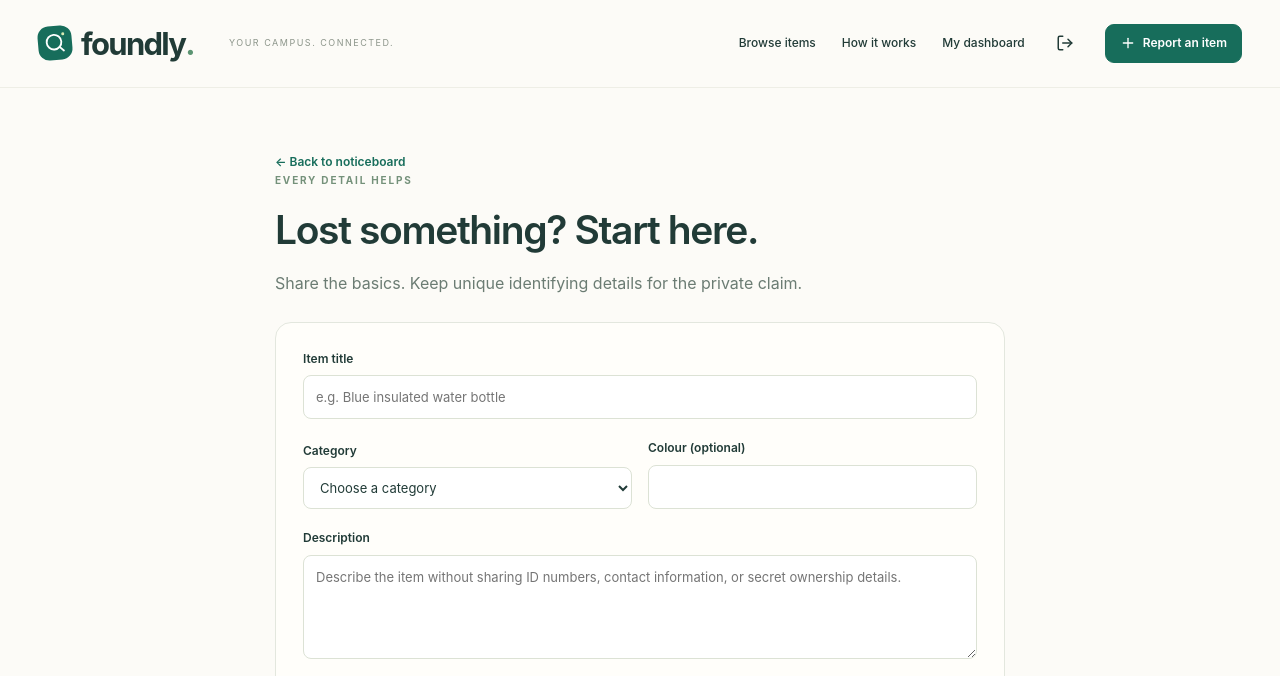
Test case: Report creation › submits report fields to the backend and opens the saved item
In the field labelled "Item title": [640, 397] box [303,375,977,419], type "Green notebook"
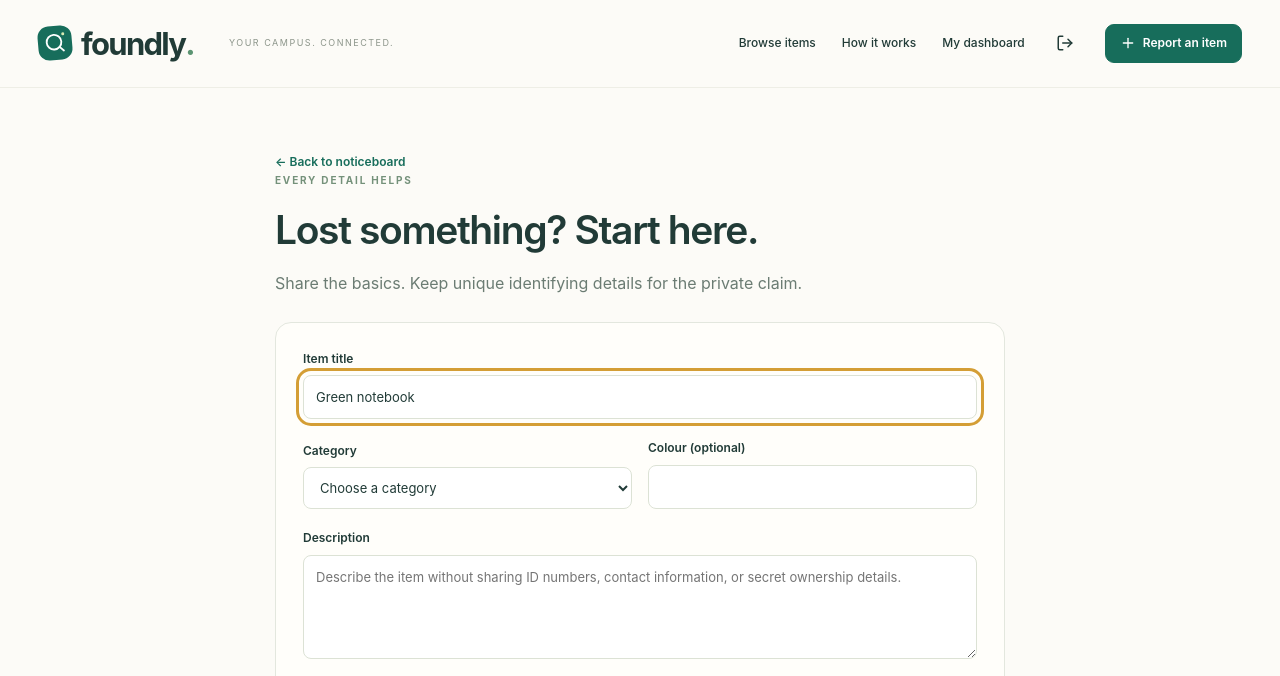
Select "Electronics" in the dropdown labelled "Category": [468, 488] box [303,467,632,509]
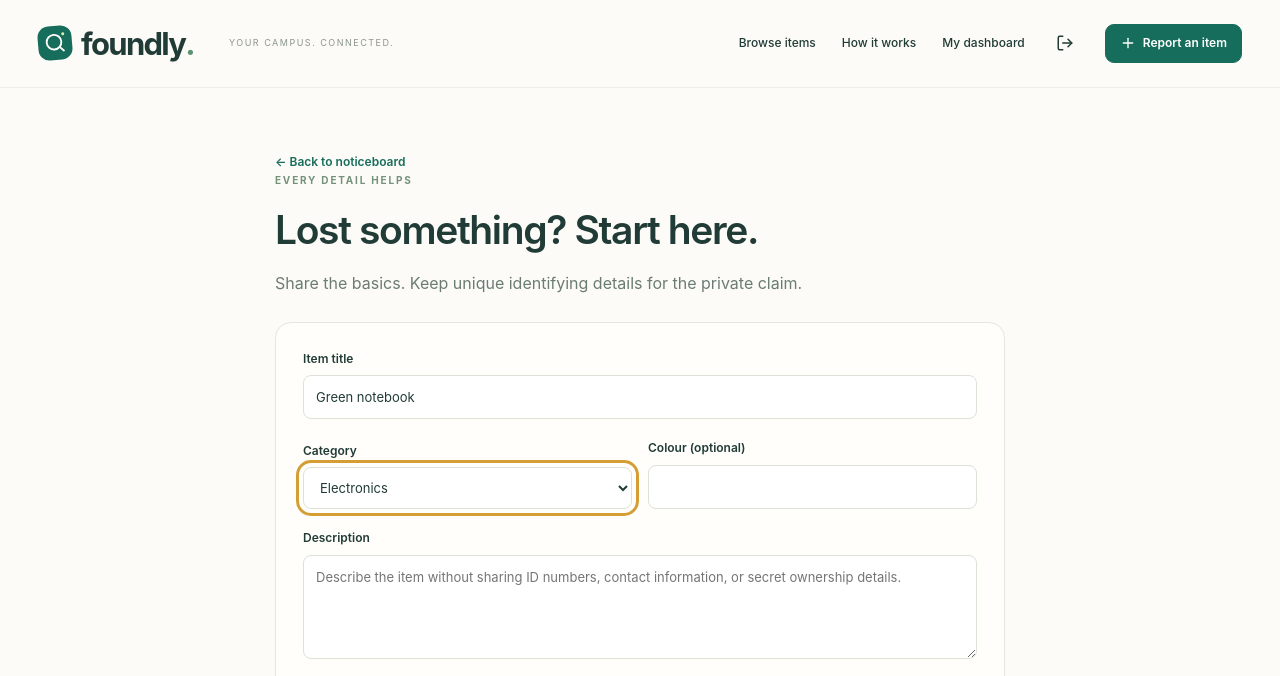
In the text box labelled "Description": [640, 607] box [303,555,977,659], type "A plain green notebook lost after class"
(page scrolled)
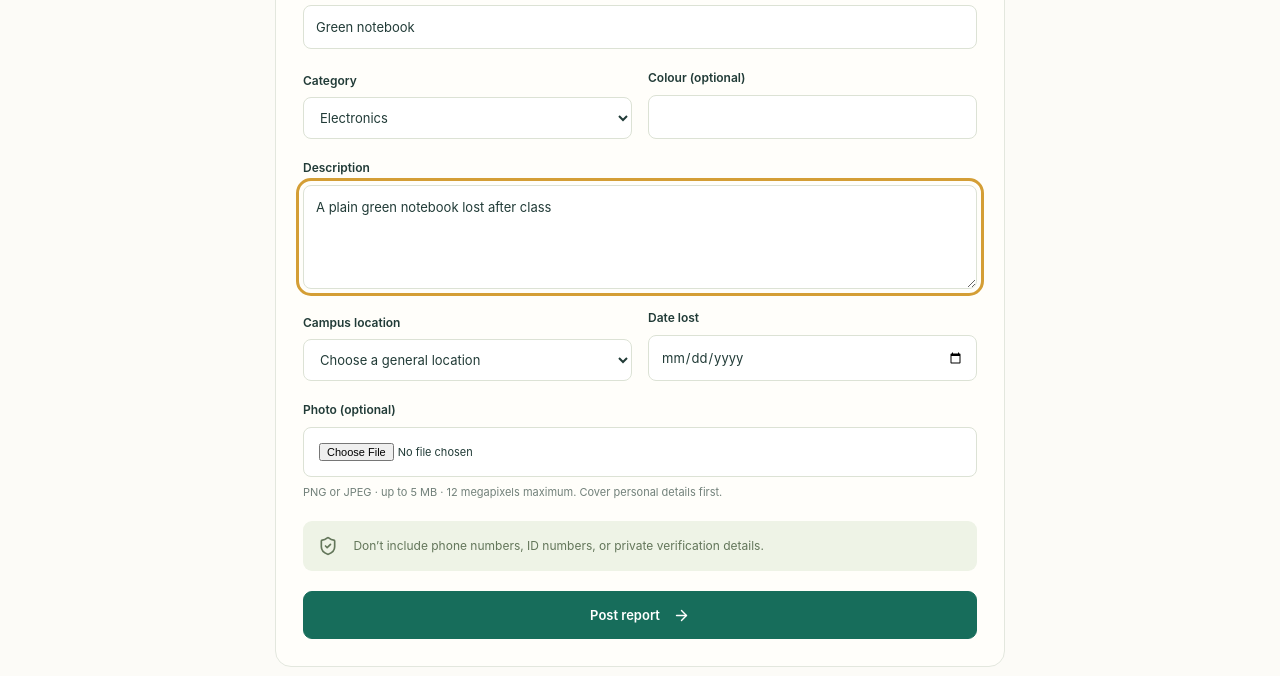
Select "Library" in the dropdown labelled "Campus location": [468, 360] box [303,339,632,381]
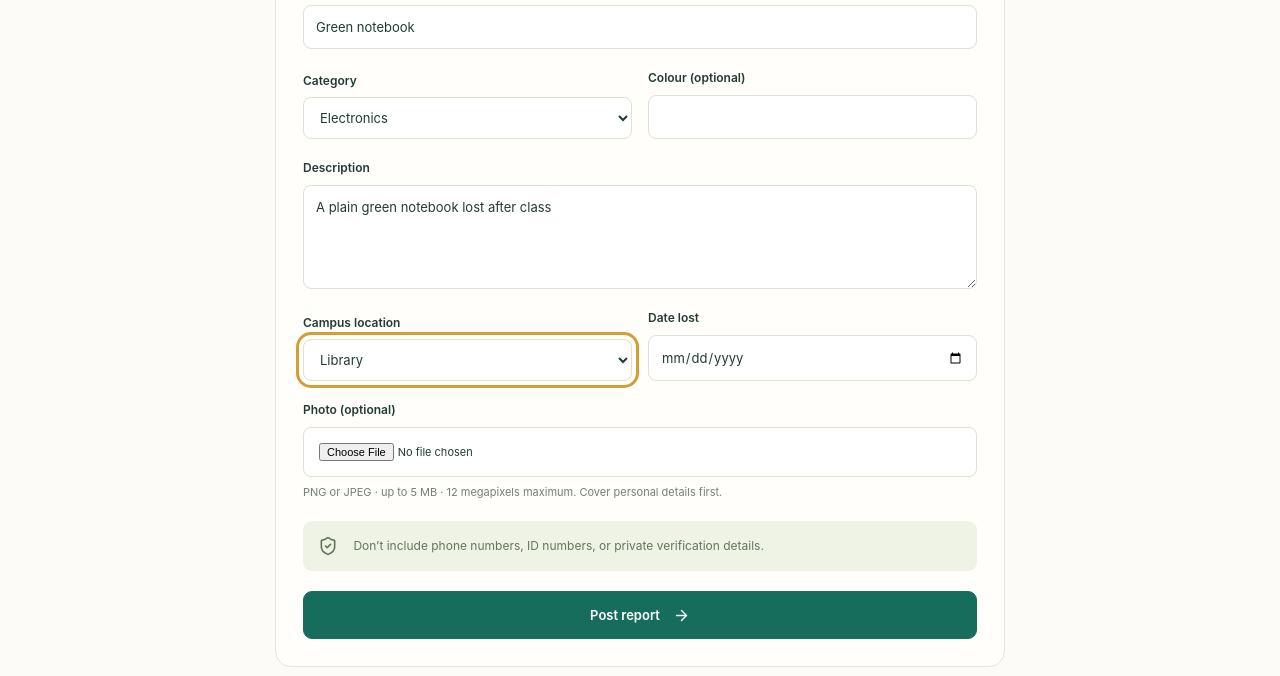
In the date field labelled "Date lost": [812, 358] box [648,335,977,381], type "2026-10-01"
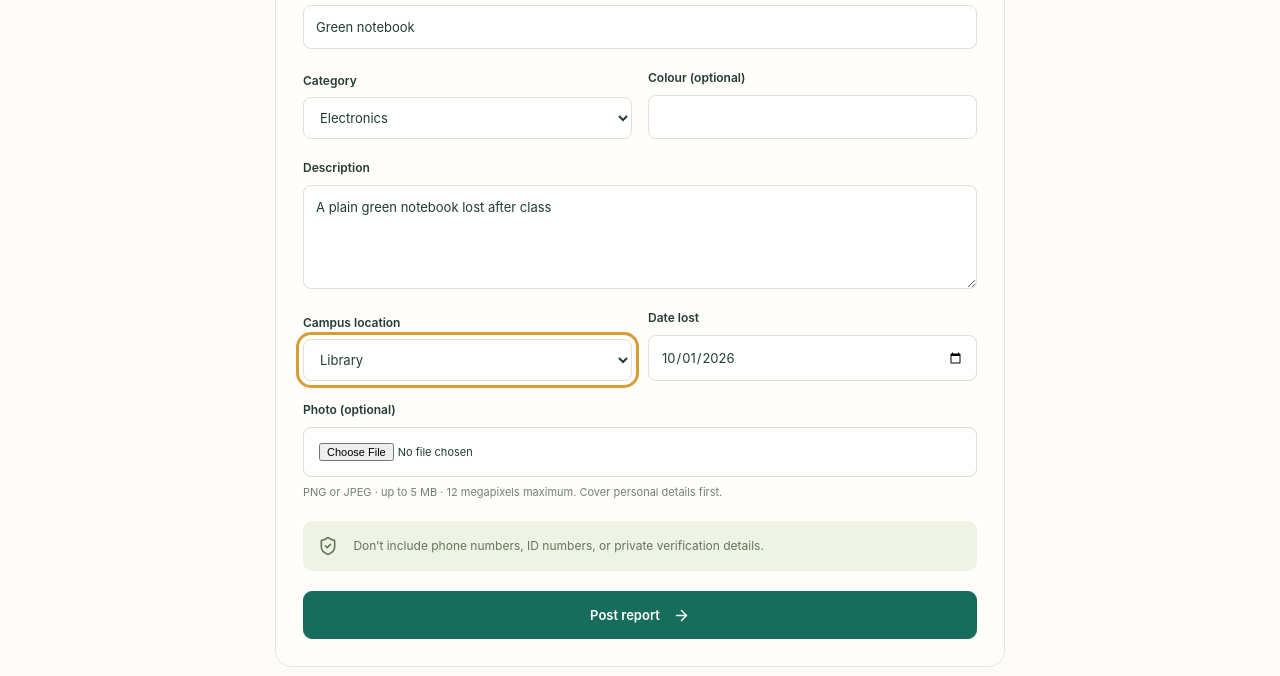
Click the button "Post report": [640, 615] box [303,591,977,639]
(page scrolled)
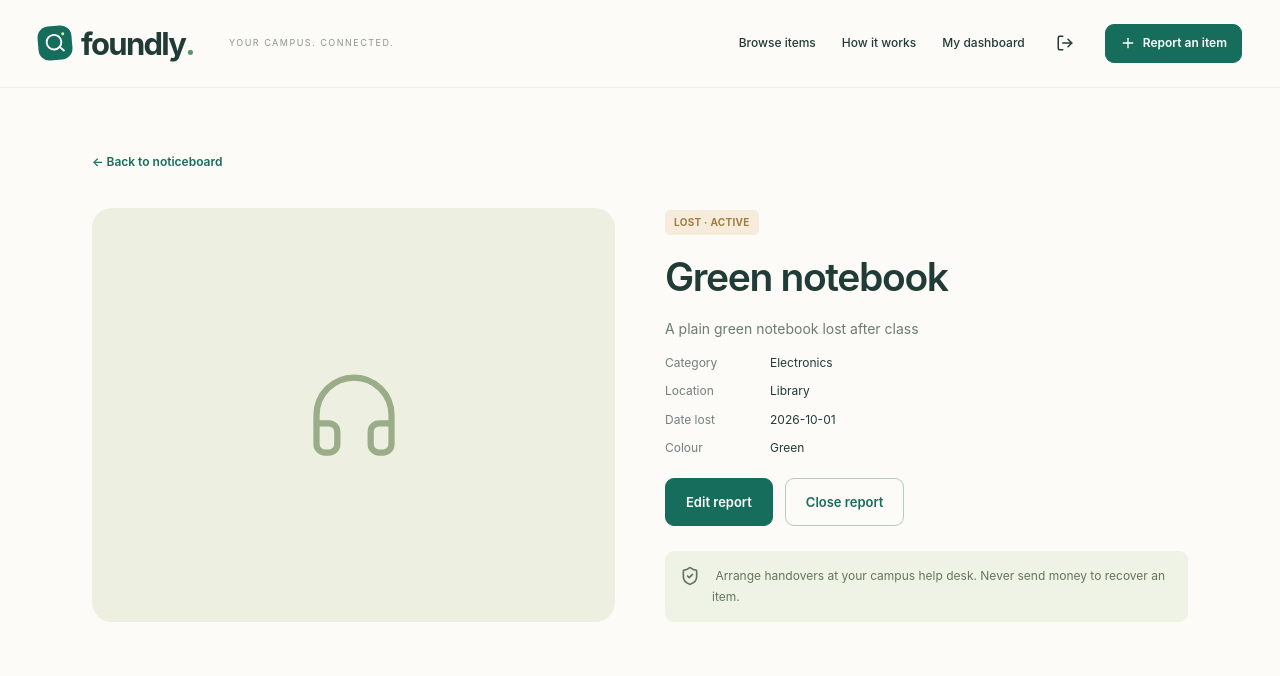
Expected: the heading "Green notebook" is shown, [665,253,948,300]
